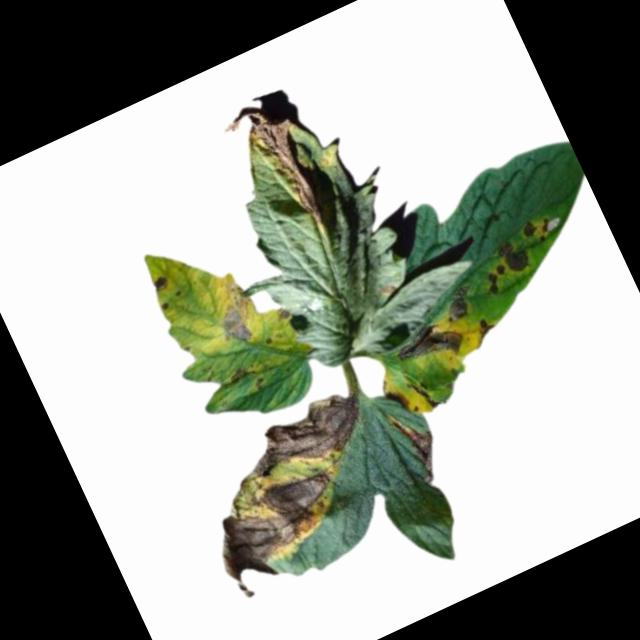Early_blight: (199, 455, 378, 605), (210, 380, 380, 503), (218, 91, 337, 248), (384, 408, 451, 491), (389, 311, 468, 379), (206, 281, 267, 354), (495, 235, 535, 279), (442, 283, 482, 326), (519, 213, 557, 247), (479, 263, 513, 297), (467, 311, 500, 346), (383, 385, 413, 416), (224, 361, 254, 387), (148, 273, 173, 298), (246, 374, 268, 394)
